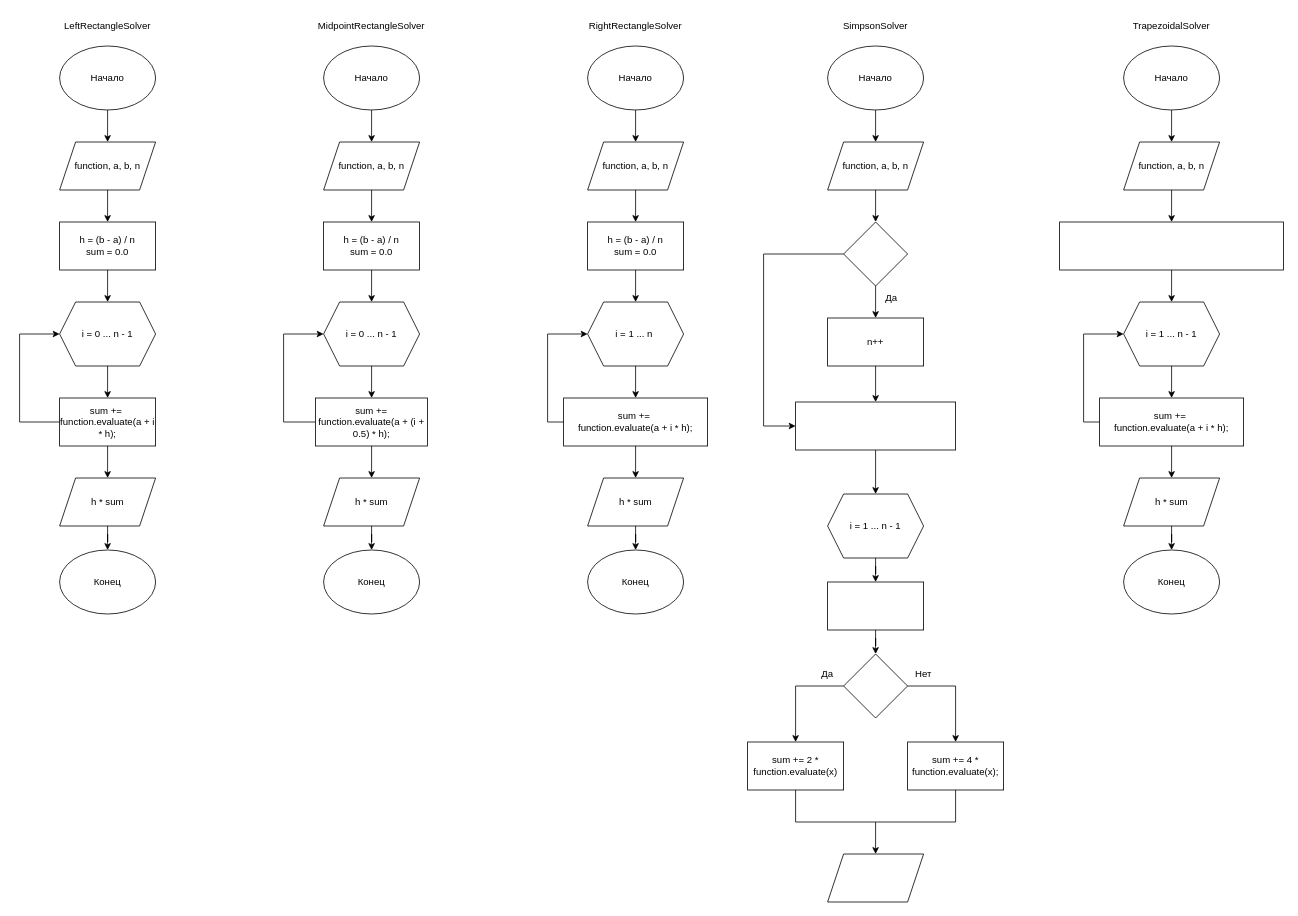
This 1298x916 diagram has some shape labels left out. The centre of each missing label's shape, as x and y in pixels:
"h / 3.0 * sum" goes at (875,877).
"h = (b - a) / n sum += function.evaluate(a) + function.evaluate(b)" goes at (875,425).
"h = (b - a) / n sum = (function.evaluate(a) + function.evaluate(b)) / 2.0" goes at (1171,245).
"i % 2 == 0" goes at (875,685).
"n % 2 != 0" goes at (875,253).
"x = a + i * h" goes at (875,605).
